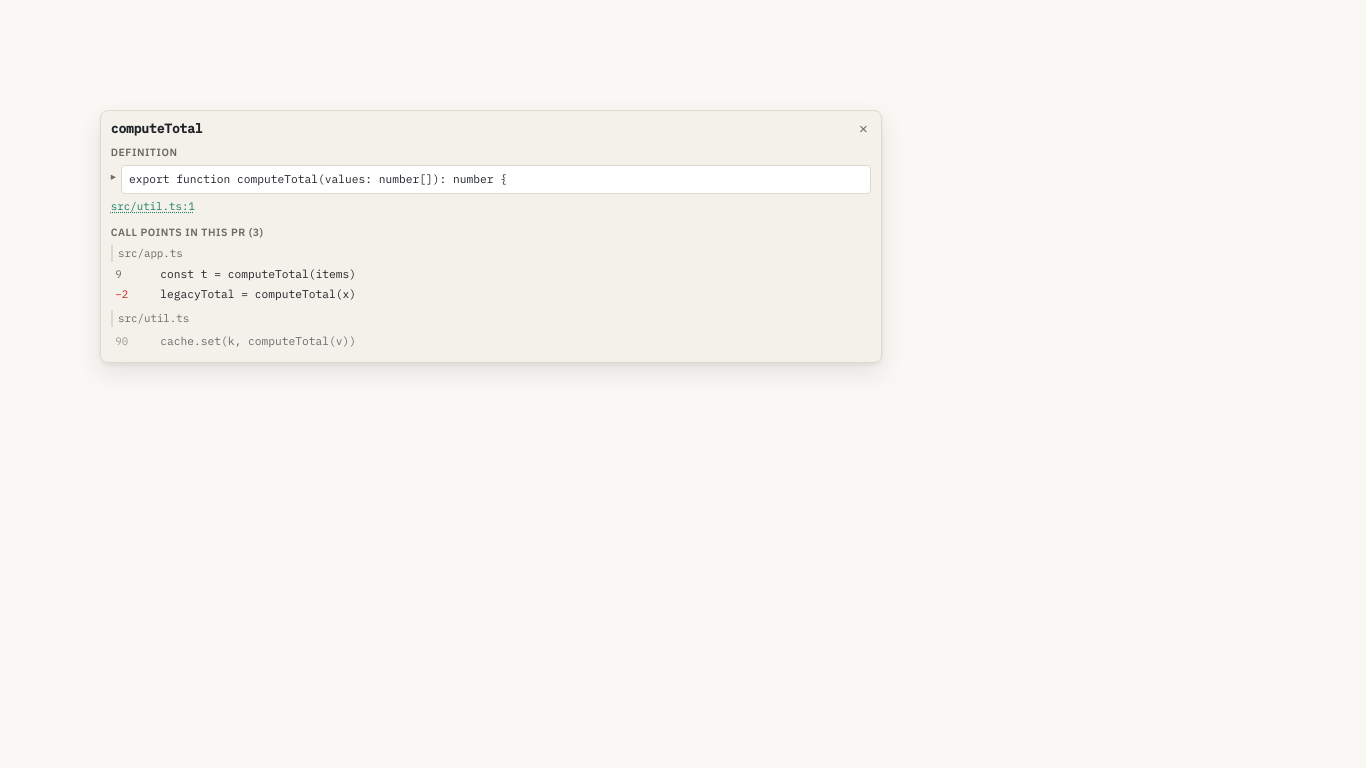
Test case: SymbolPopover — definition peek › stops at the expanded ceiling and falls back to the honest static remainder
Click the button named "Definition body at src/util.ts:1" at (114, 174), box left=111, top=165, right=118, bottom=182
(page scrolled)
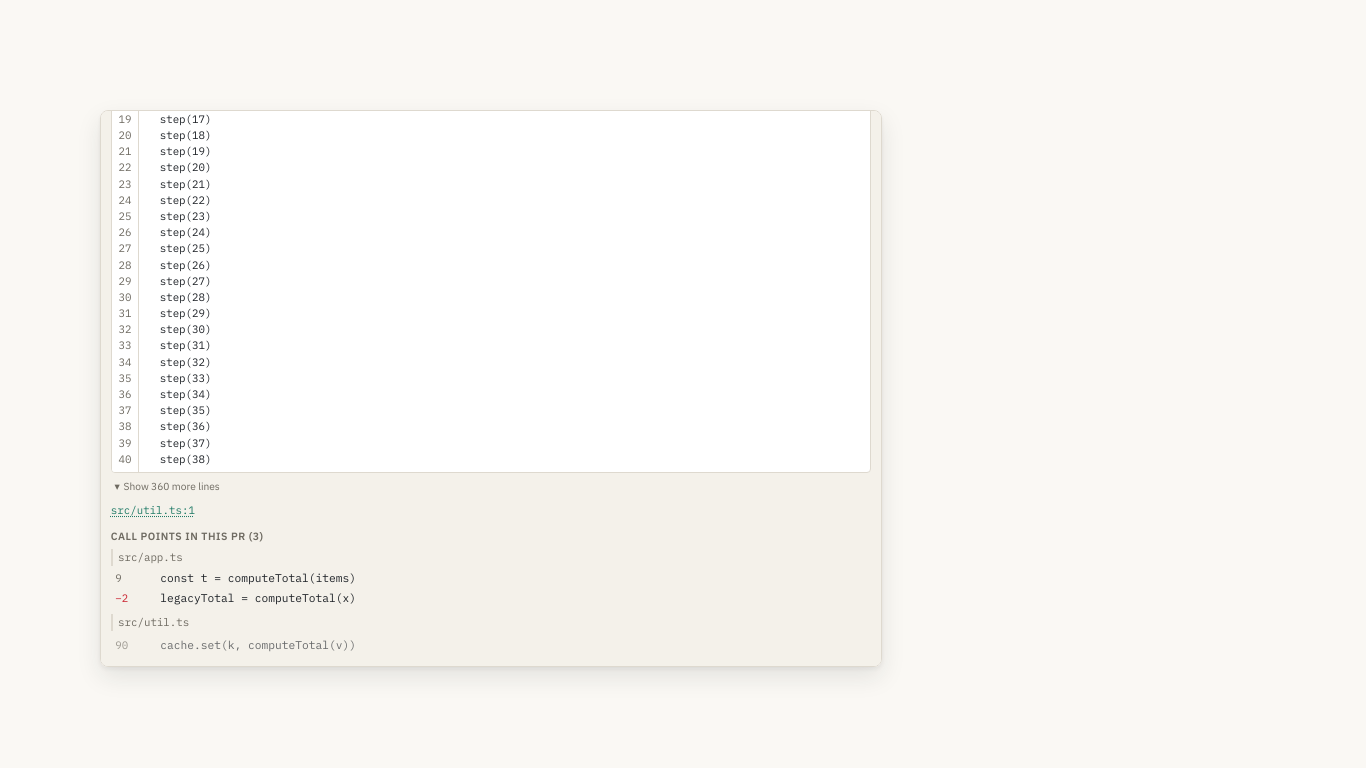
Note: One click can only add up to the ceiling, and the label says so.
Click the button "▾ Show 360 more lines" at (169, 486), box left=111, top=475, right=227, bottom=497
(page scrolled)
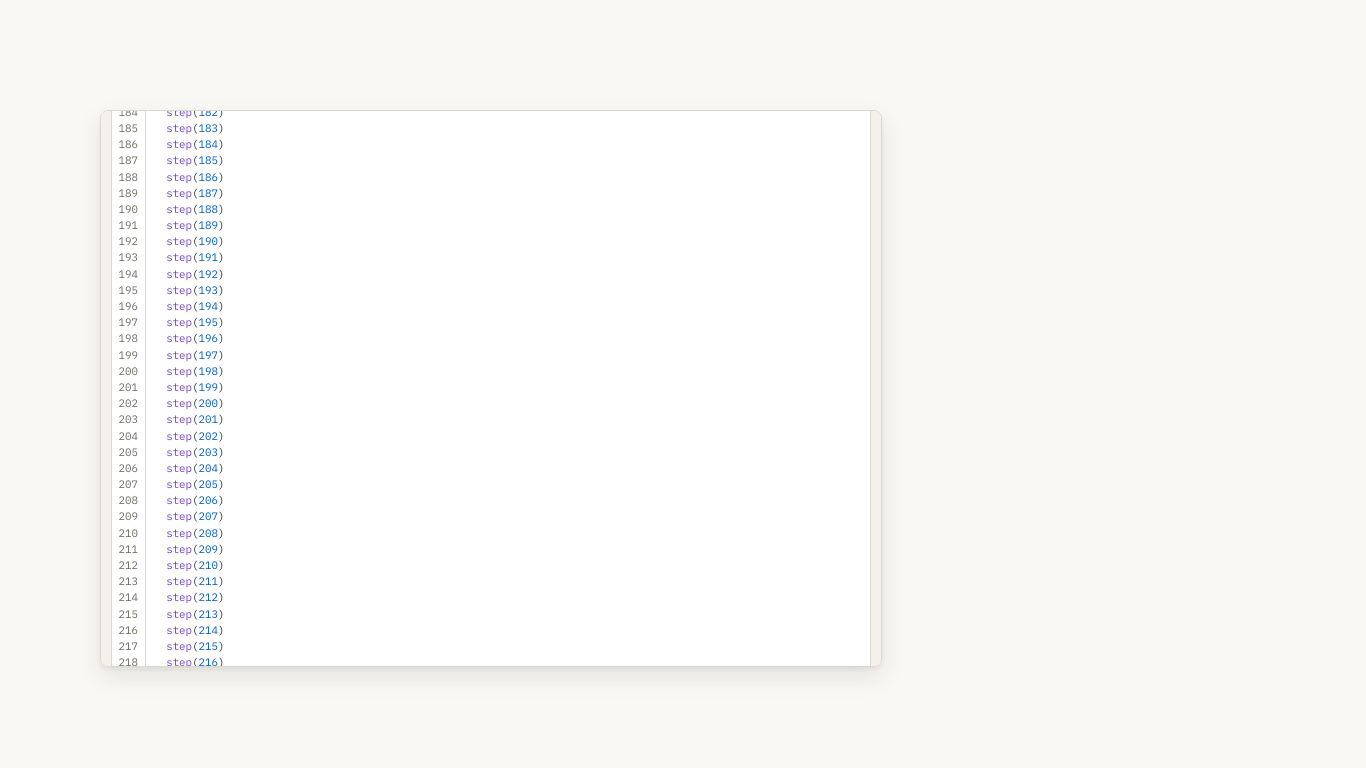
Expected: the button "▾ Show 360 more lines" is gone
